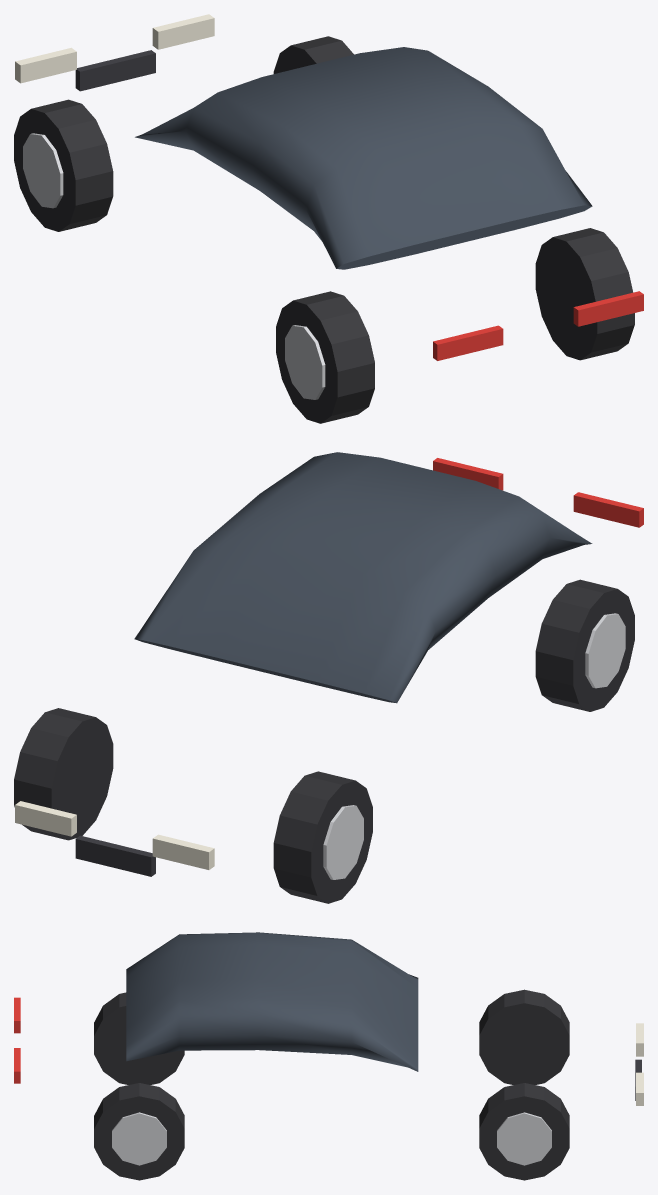
The model's file is sedan_trim.glb.
3 views of the same model, one above another, from view 1: azimuth 30°, elevation 25°; view 2: azimuth 150°, elevation 25°; view 3: azimuth 270°, elevation 25° (orthographic). The views are drawn at different scales.
Bounding box in the file's own units: 1.94 × 1.38 × 4.74.
